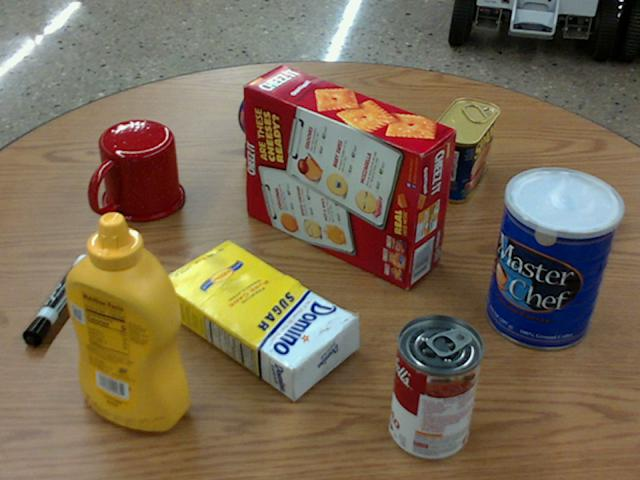cracker_box: (243, 66, 453, 288)
gelatin_box: (523, 177, 619, 254)
large_marker: (22, 254, 93, 342)
master_chef_can: (486, 167, 621, 349)
mug: (89, 120, 184, 221)
mustard_bottle: (63, 211, 186, 429)
potted_meat_can: (428, 97, 500, 201)
sugar_box: (158, 238, 358, 401)
tomato_soup_can: (388, 315, 482, 460)
tuna_fish_can: (237, 78, 310, 152)
